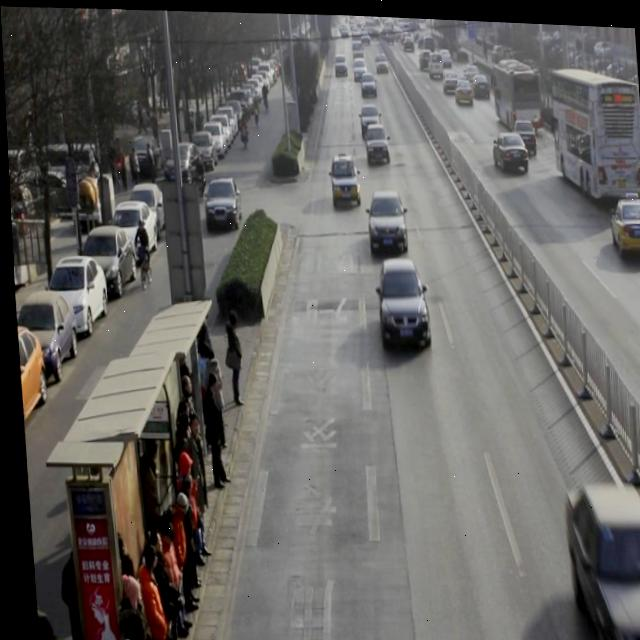car: (558, 477, 640, 640), (372, 254, 428, 349), (364, 187, 406, 254), (608, 193, 640, 257), (328, 151, 359, 207), (490, 128, 528, 171), (363, 119, 389, 163), (510, 113, 536, 153), (359, 102, 382, 139), (452, 75, 474, 103)
van: (546, 59, 640, 196), (488, 49, 538, 125)
